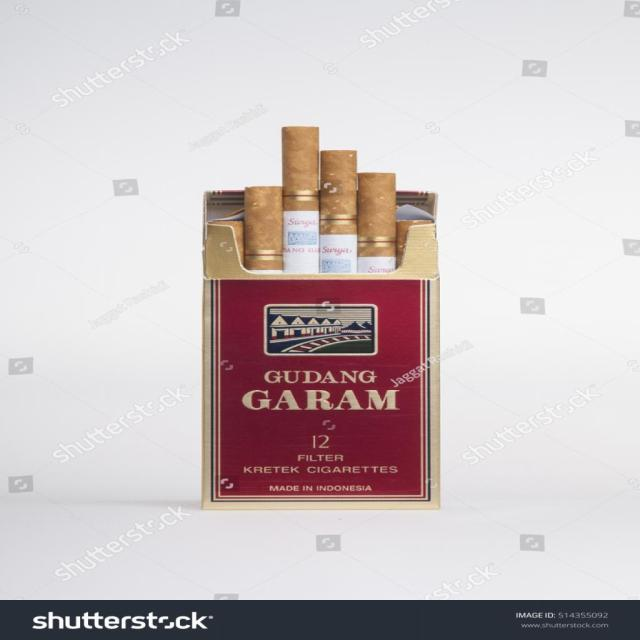smoking: (201, 125, 444, 512)
